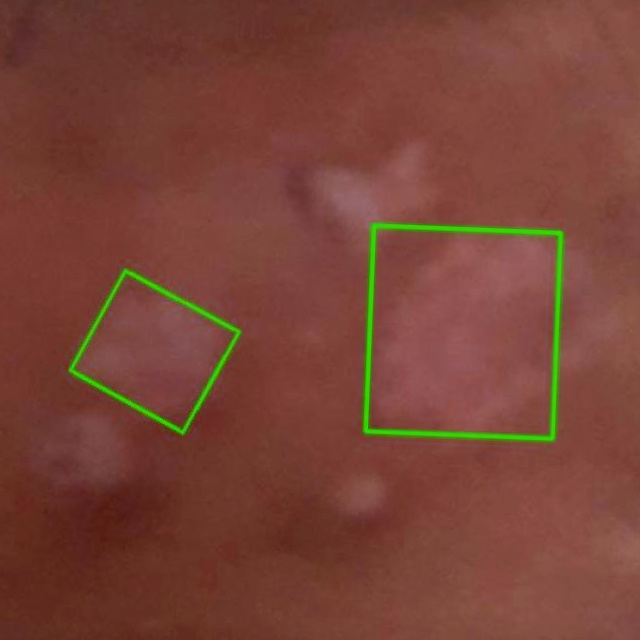Eczema: (365, 225, 561, 438), (70, 270, 238, 433)
